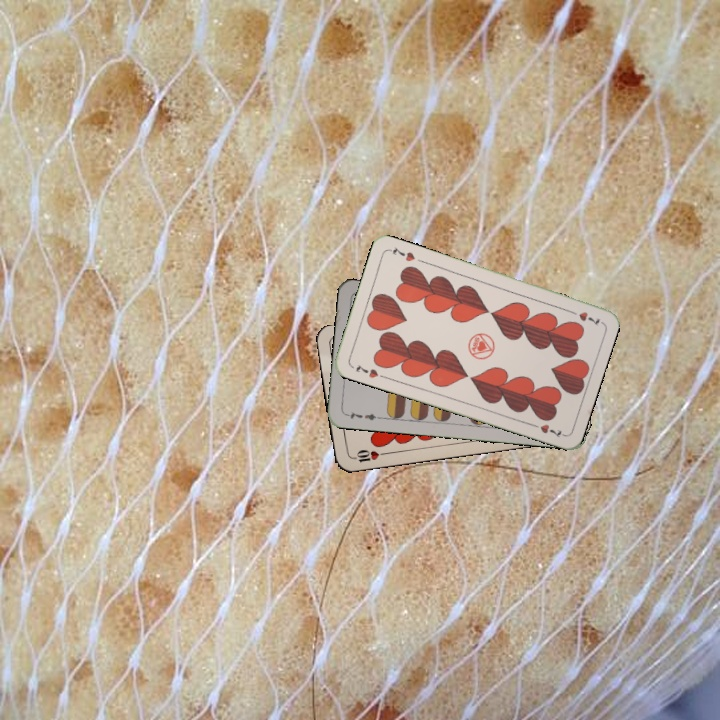E7: (342, 407, 382, 423)
H10: (348, 445, 388, 465)
H7: (564, 306, 602, 327), (352, 360, 381, 381)
